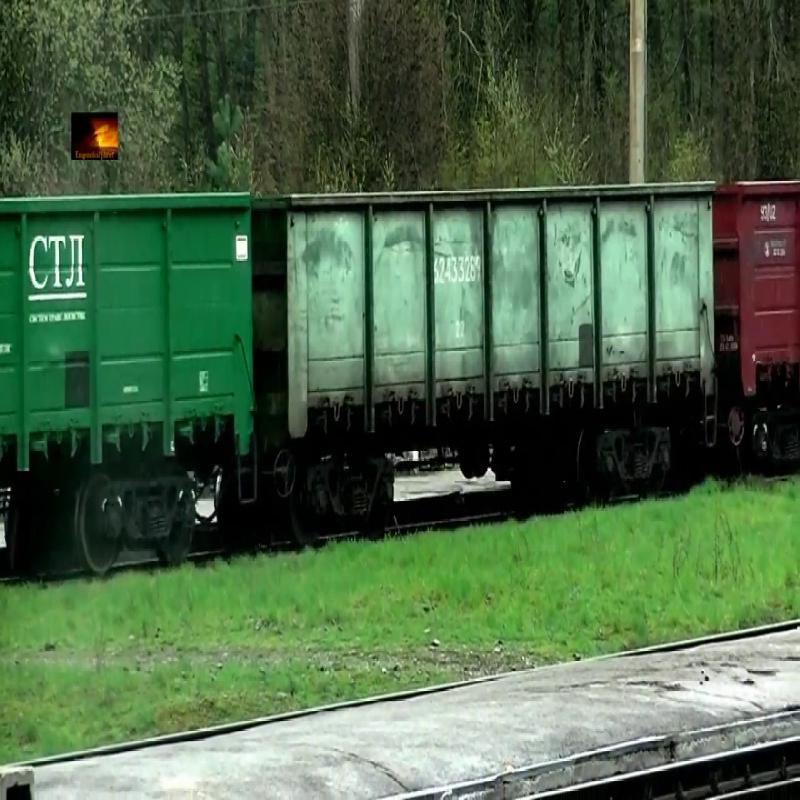train: (256, 178, 728, 455), (1, 193, 253, 495), (725, 179, 800, 411)
